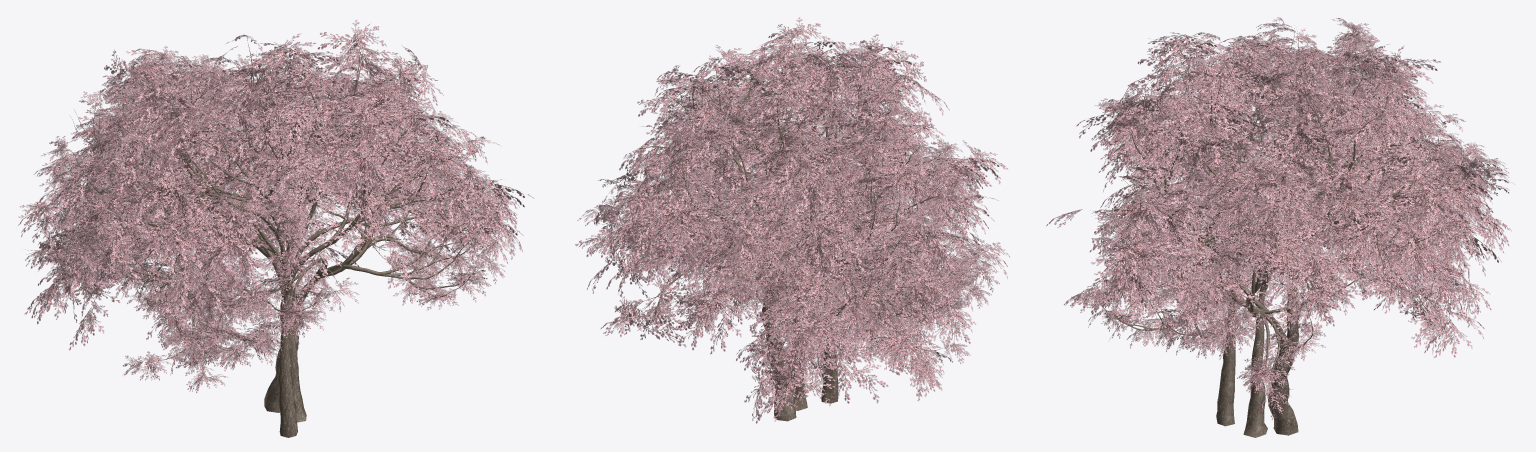
Rendered from sakura.glb.
3 views of the same model, side by side, from view 1: azimuth 30°, elevation 25°; view 2: azimuth 150°, elevation 25°; view 3: azimuth 270°, elevation 25° (orthographic). The views are drawn at different scales.
Visible parts, largest first — view 1: SakuraC, SakuraB, SakuraA; view 2: SakuraA, SakuraC, SakuraB; view 3: SakuraA, SakuraC, SakuraB.
Boxes of the visible parts, x1,y1,x2,y2 form: SakuraC: (38,61,534,437); SakuraB: (18,46,516,412); SakuraA: (18,19,481,422); SakuraA: (575,29,997,423); SakuraC: (634,17,1009,416); SakuraB: (577,84,1001,421); SakuraA: (1046,32,1511,437); SakuraC: (1074,32,1501,426); SakuraB: (1064,17,1509,435).
Bounding box in the file's own units: 7.38 × 5.57 × 6.49.
Materials: 2 (2 with a texture image).
